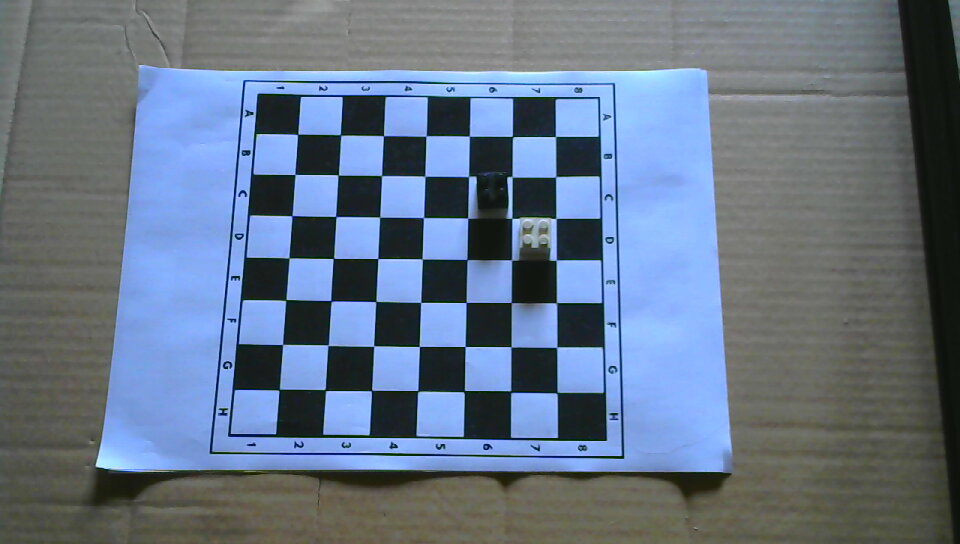bp: (475, 170, 509, 210)
wp: (517, 215, 553, 258)
